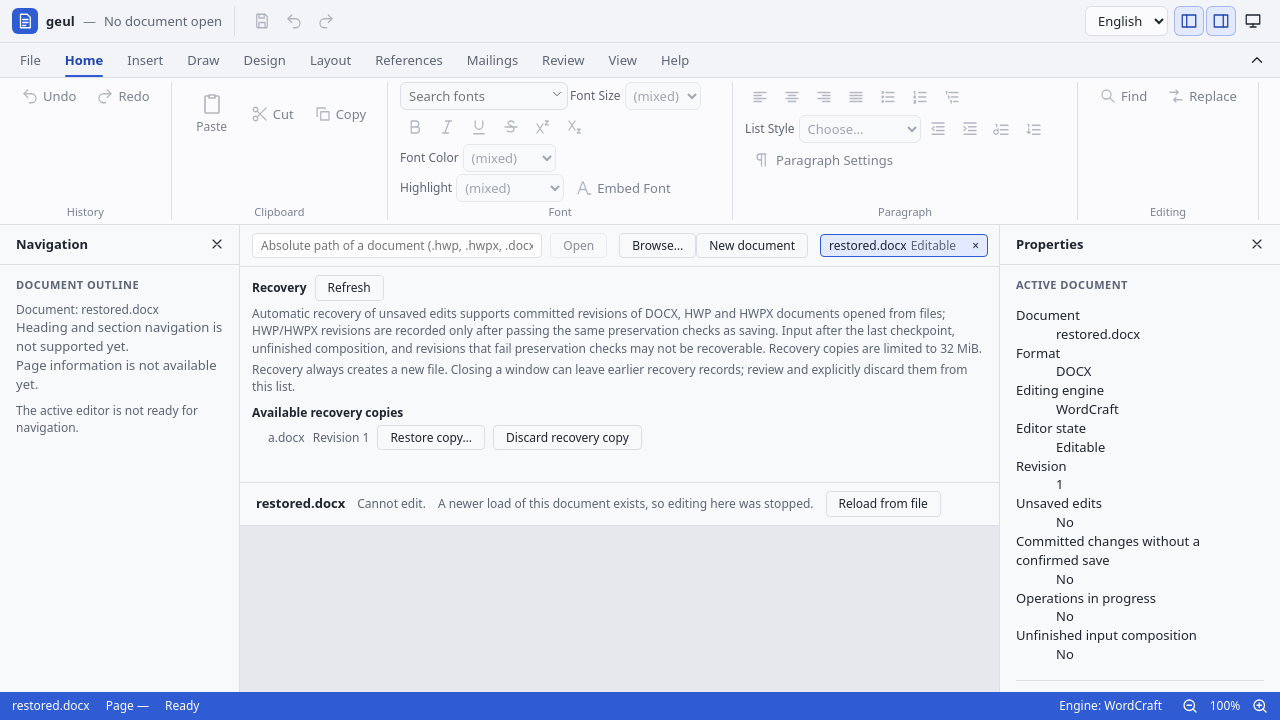
Test: publication warning survives ordinary status and preserves the selected editor (en)
Click the button with test id "recovery-restore-r1": (431, 438) [377,425,485,450]
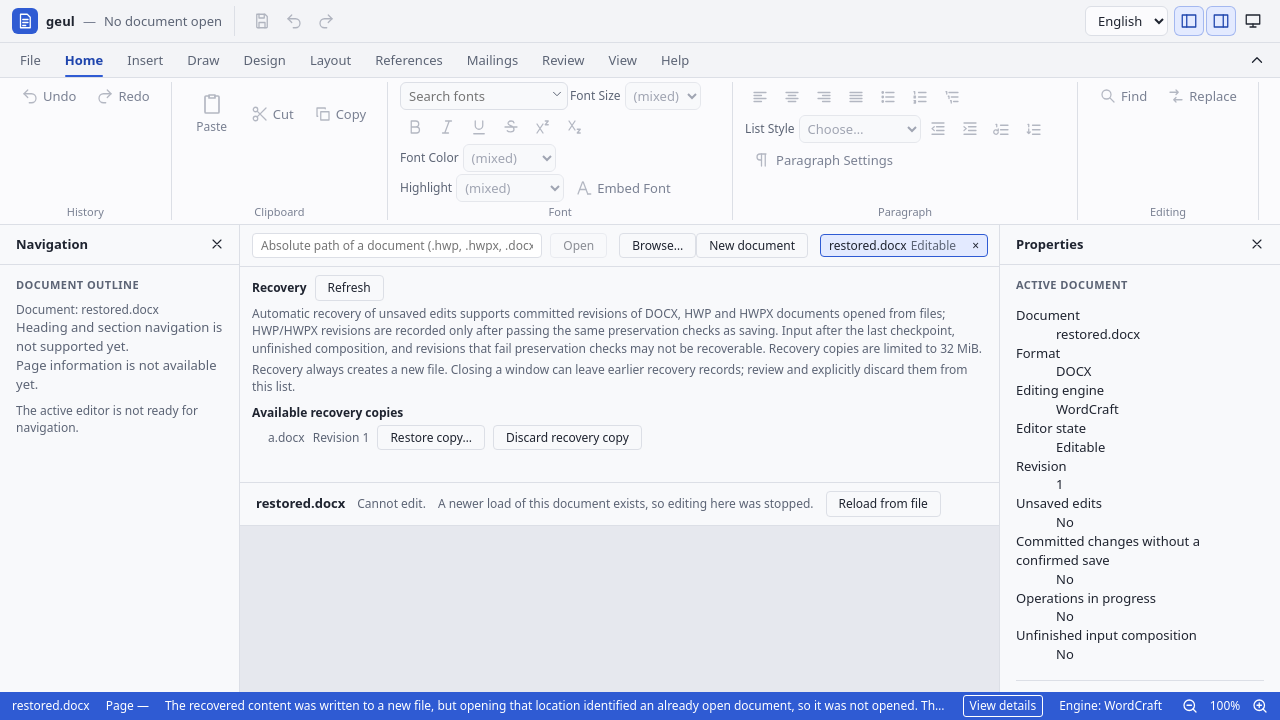
Click the button named "Zoom In": (1260, 706) [1248,695,1272,717]
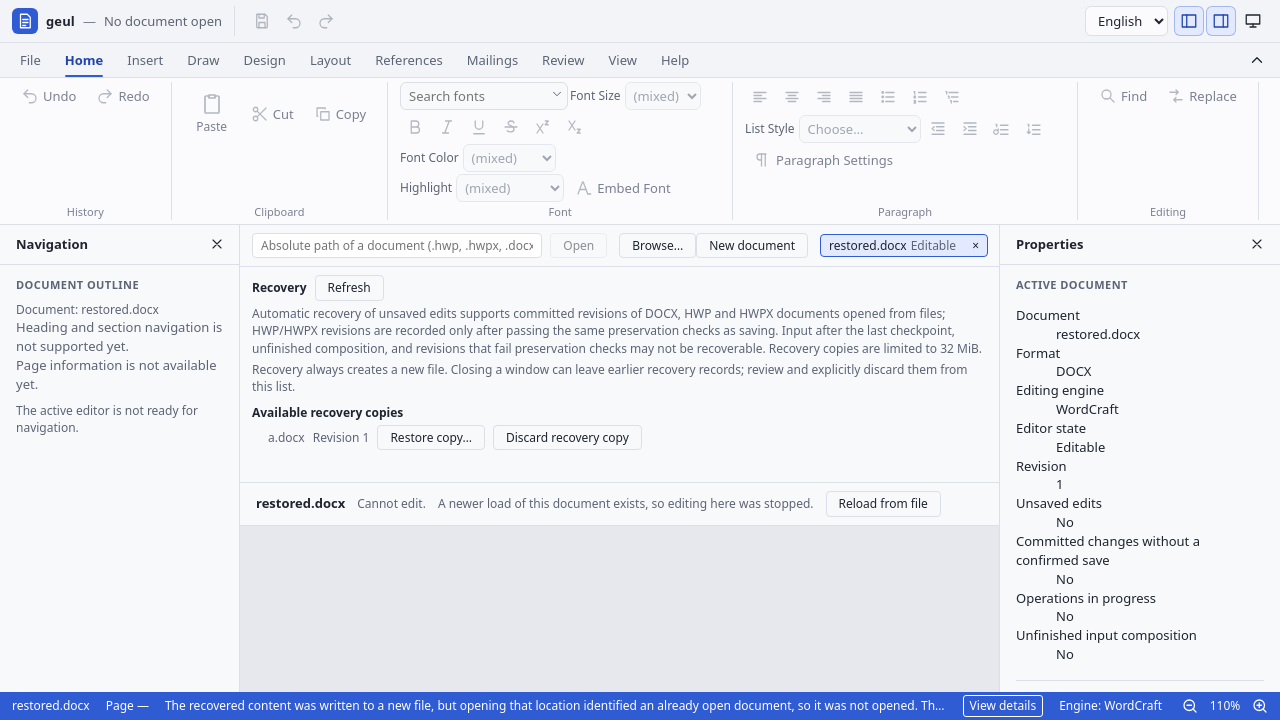
Click the button "View details": (1003, 706) [963,695,1043,717]
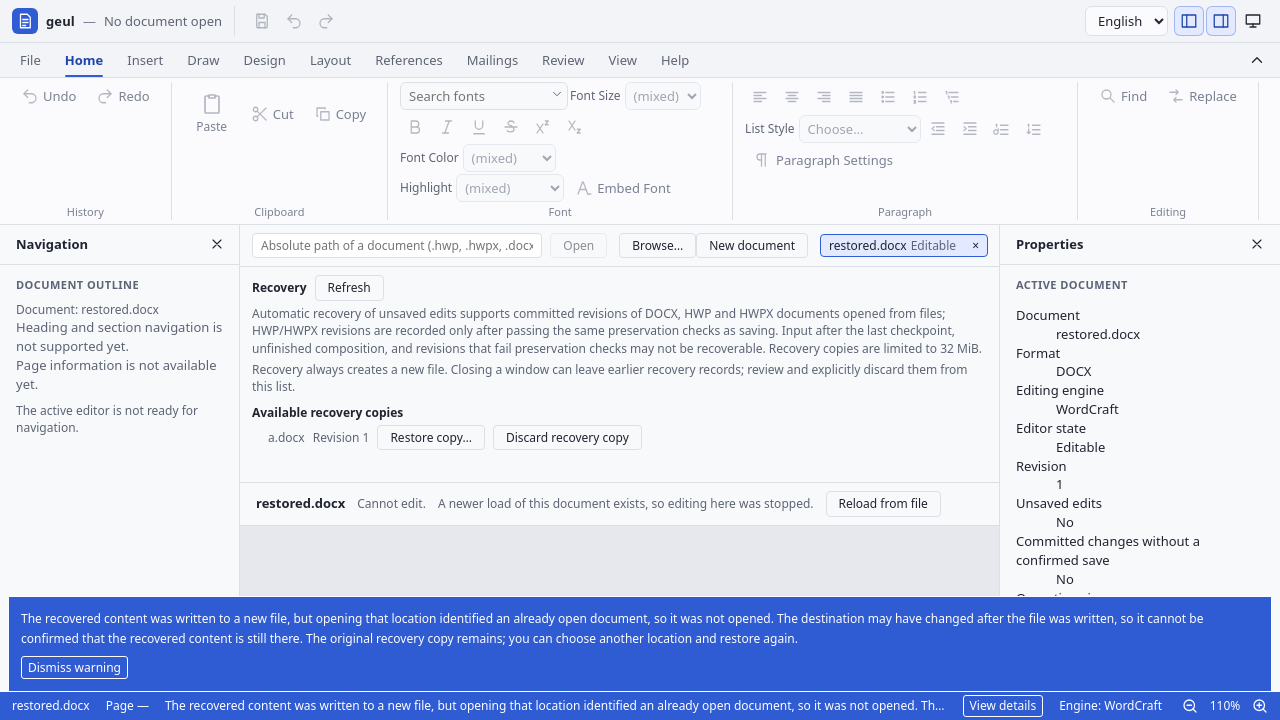
Expected: the element named "Publication warning details" does not show "/private/", [8,596,1272,692]
Expected: the element named "Publication warning details" shows "The recovered content was written to a new file, but opening that location identified an already open document, so it was not opened. The destination may have c", [21,610,1204,647]
Click the button "Dismiss warning": (74, 667) [21,656,128,679]
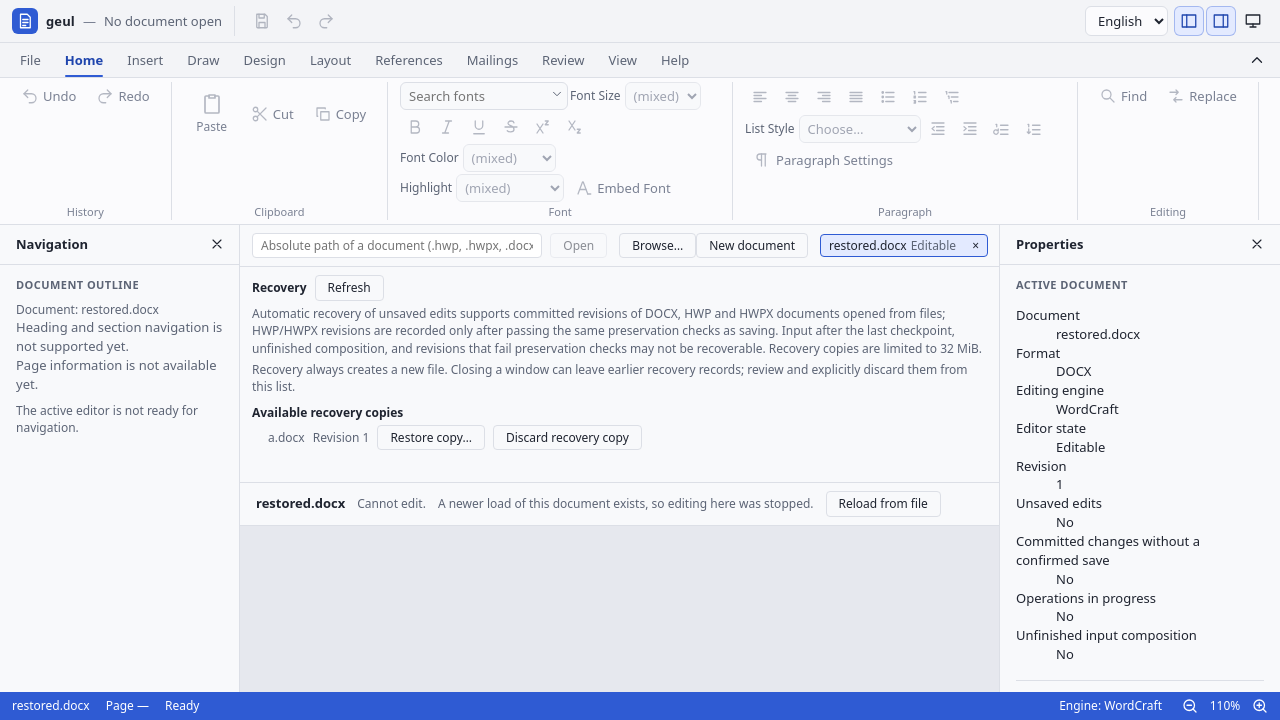
Expected: the button "View details" is gone
